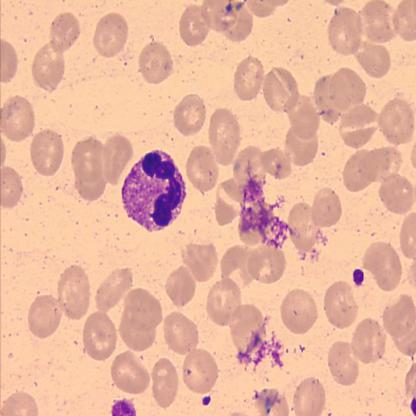Segmented neutrophil: (120, 147, 188, 235)
